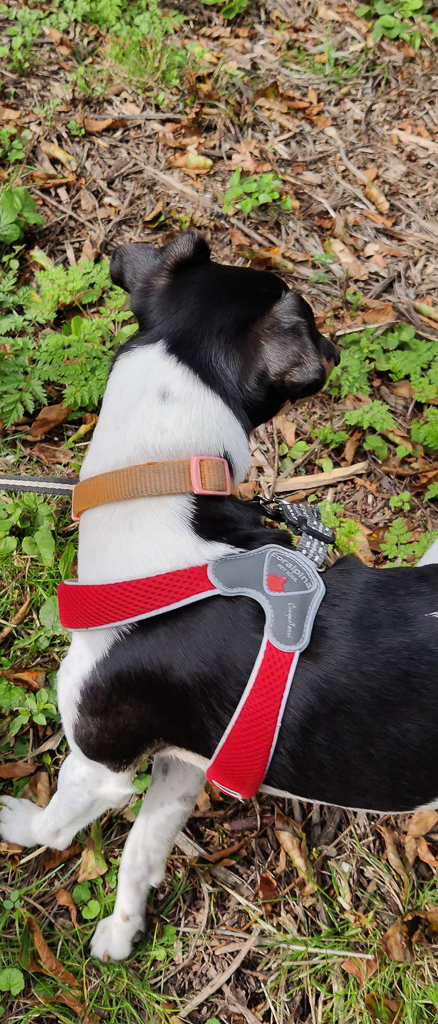Dog: (0, 214, 438, 975)
